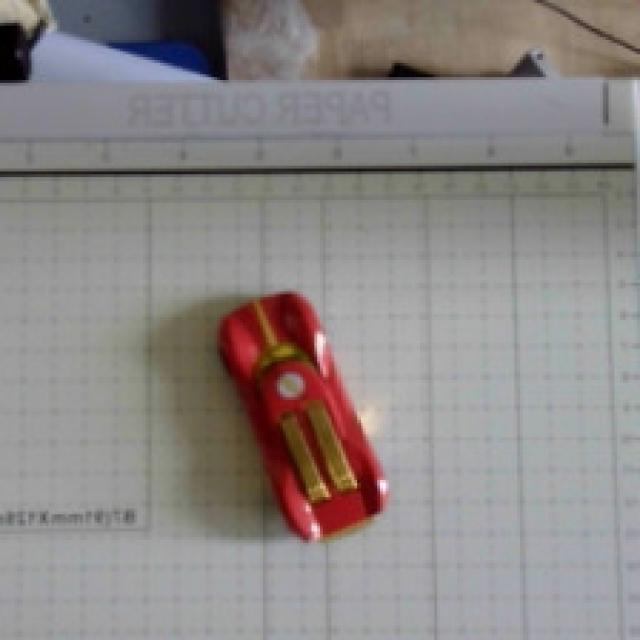Red Car: (185, 286, 397, 564)
